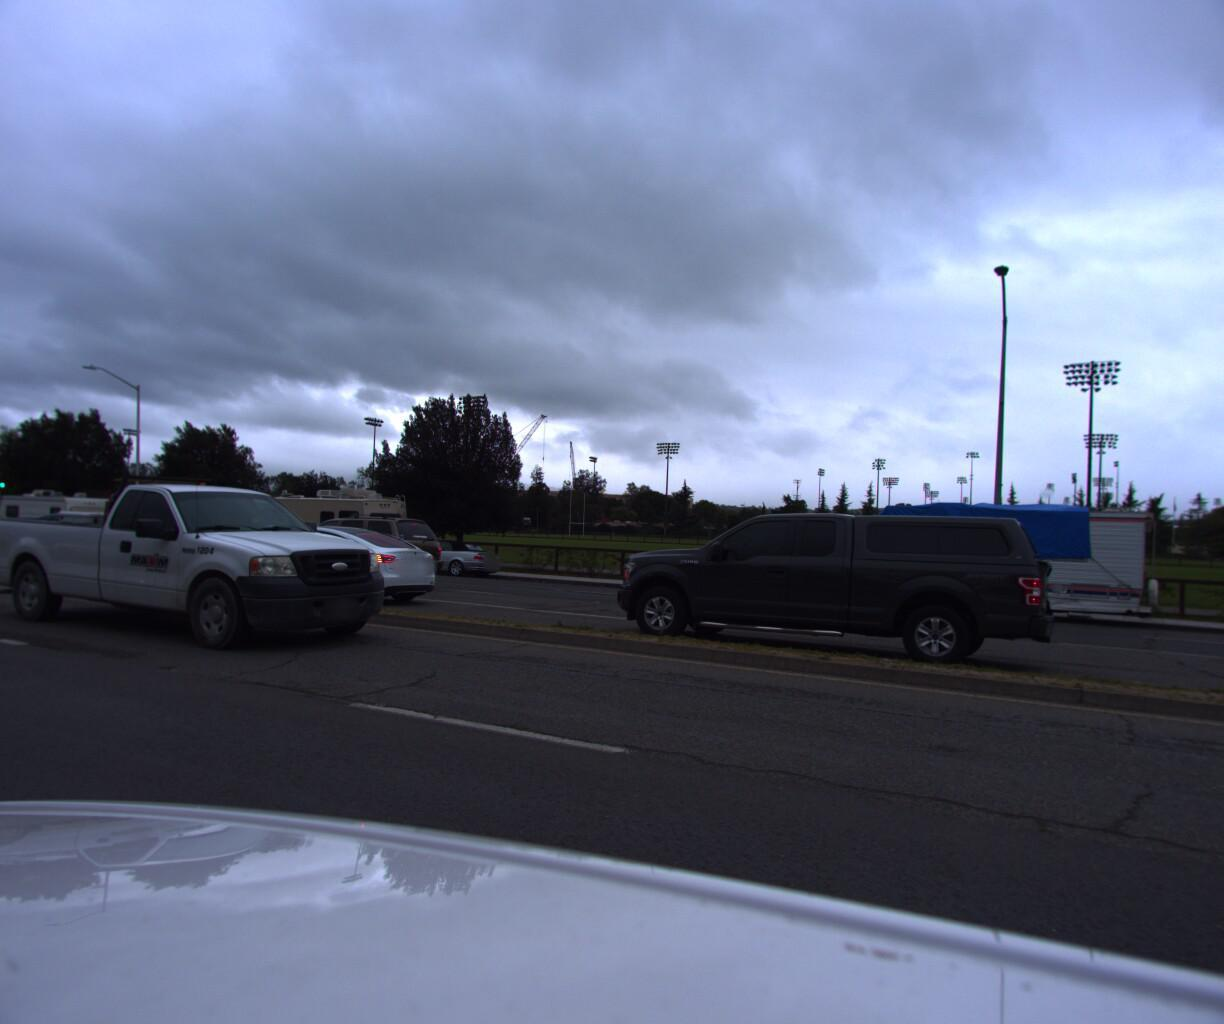car: (0, 451, 422, 671), (592, 504, 1055, 684), (193, 519, 449, 612), (257, 511, 454, 603), (0, 511, 132, 566), (381, 536, 506, 583), (0, 515, 15, 549)
other_vehicle: (852, 496, 1164, 639), (217, 485, 422, 571), (0, 487, 122, 550)
